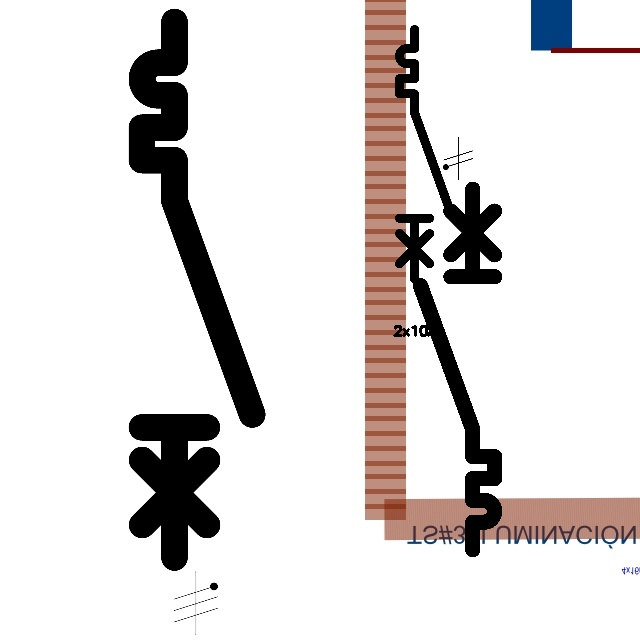interruptor_termomagnetico: (128, 8, 266, 571), (411, 179, 504, 558), (393, 23, 457, 285)
